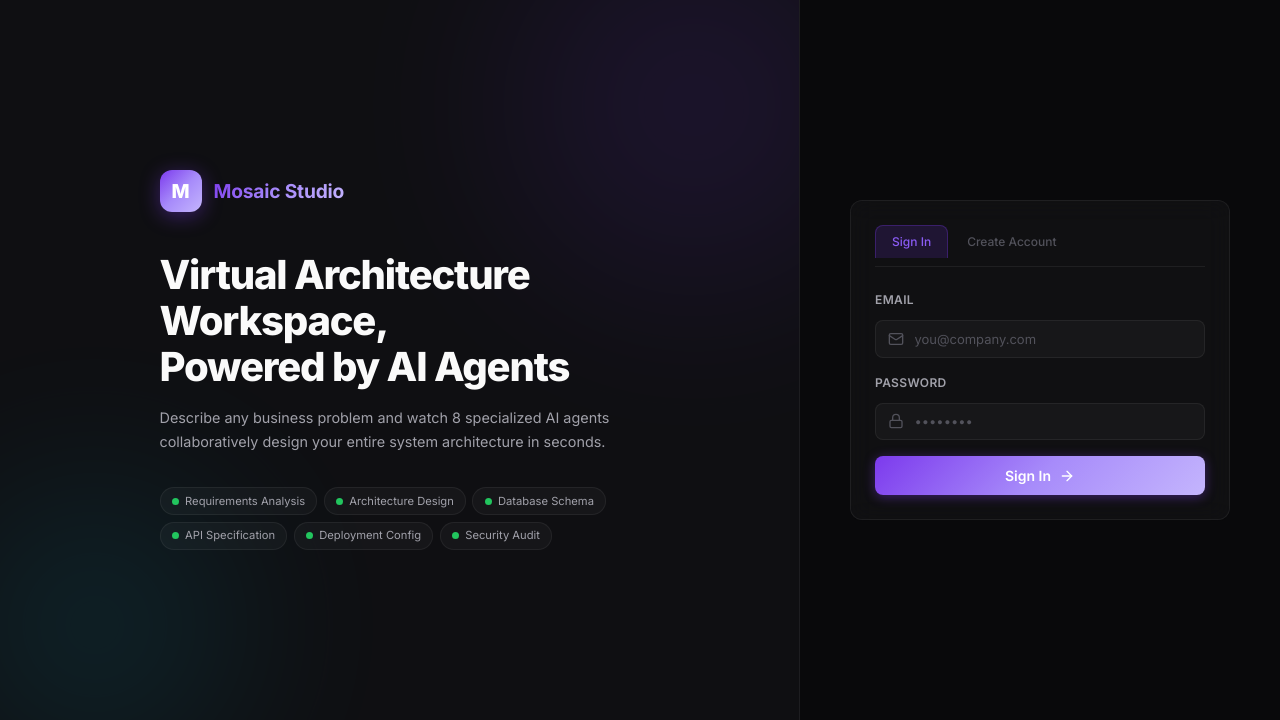
Test case: AuthPage › switches to register mode
The image size is (1280, 720).
Step 1. Click the button "Create Account" → x=1012, y=241, box [950, 225, 1074, 258]
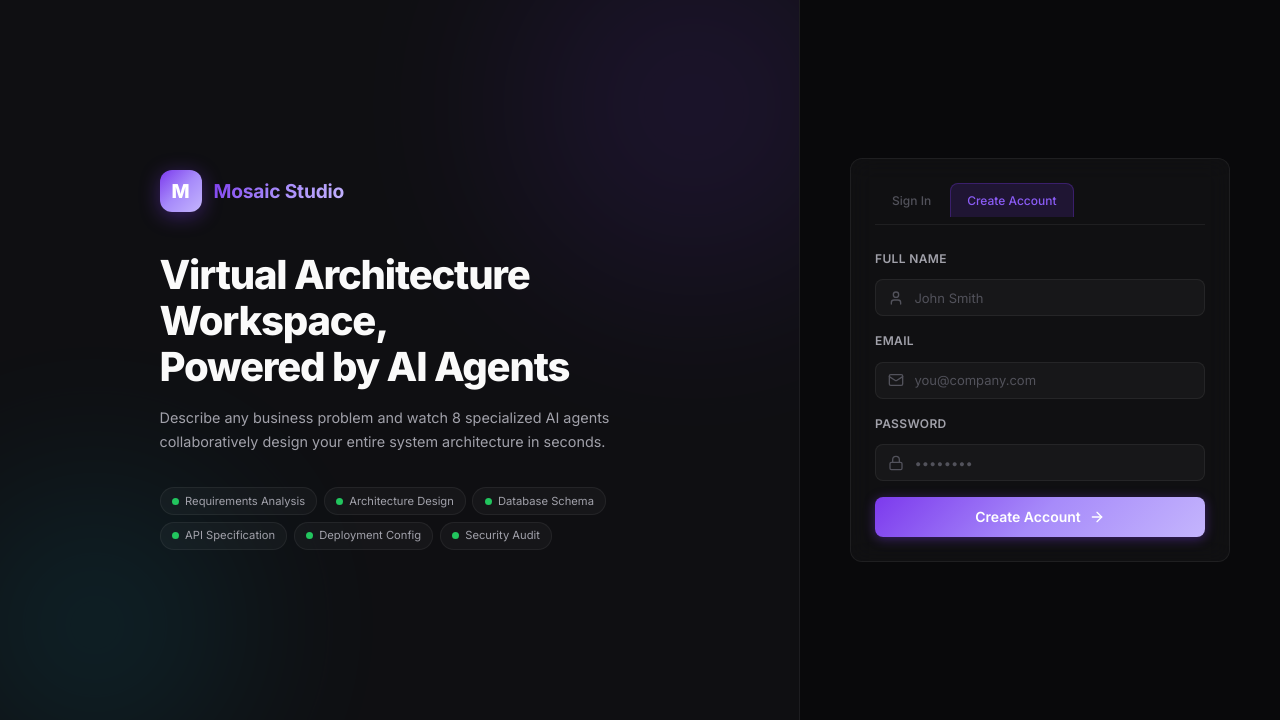
Expected: the field with placeholder "John Smith" is shown, [875, 279, 1205, 316]
